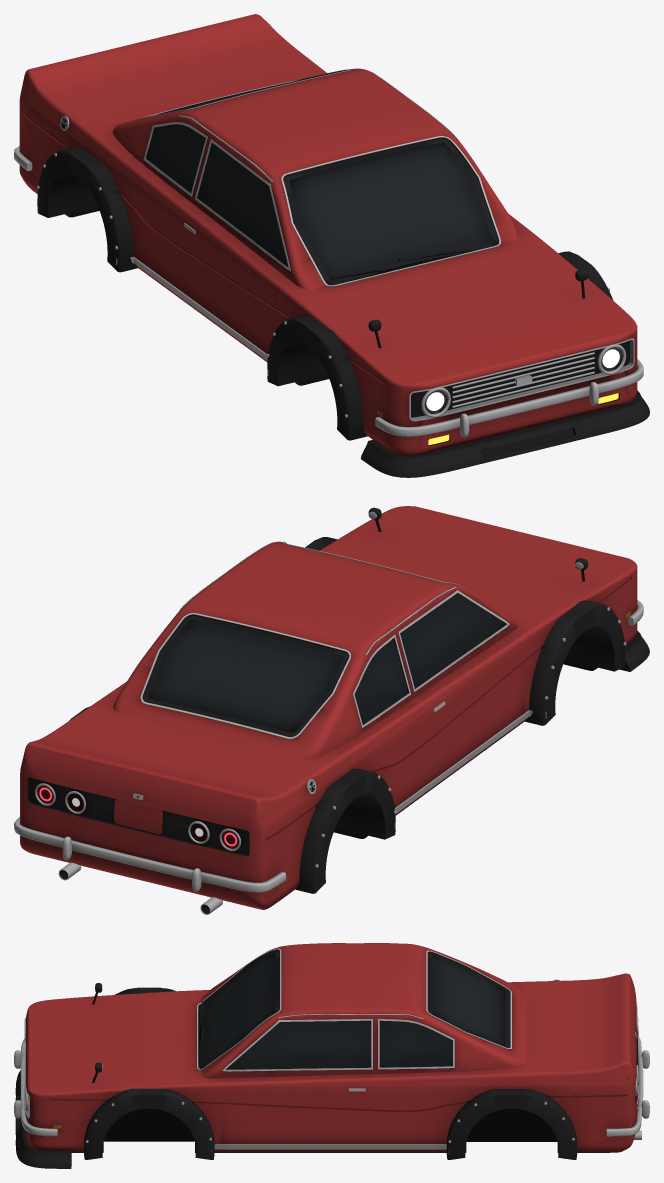
File: kaido.glb
3 views of the same model, one above another, from view 1: azimuth 30°, elevation 25°; view 2: azimuth 150°, elevation 25°; view 3: azimuth 270°, elevation 25° (orthographic). The views are drawn at different scales.
Parts seen in each view (by area): view 1: paint, window, trim, chrome, grille; view 2: paint, window, trim, chrome, tail; view 3: paint, window, trim, chrome.
Part boxes in pixels (x1,y1,x2,y2): paint: (19, 14, 637, 455); window: (146, 80, 498, 285); trim: (37, 70, 649, 477); chrome: (14, 69, 643, 437); grille: (411, 340, 629, 456); paint: (20, 506, 637, 909); window: (143, 593, 505, 733); trim: (27, 507, 649, 913); chrome: (14, 511, 643, 914); tail: (37, 785, 238, 848); paint: (26, 943, 637, 1152); window: (198, 952, 505, 1069); trim: (15, 949, 637, 1168); chrome: (14, 946, 649, 1154).
Size of what is drawn, in the model's own units: 1.82 by 1.11 by 4.52.
